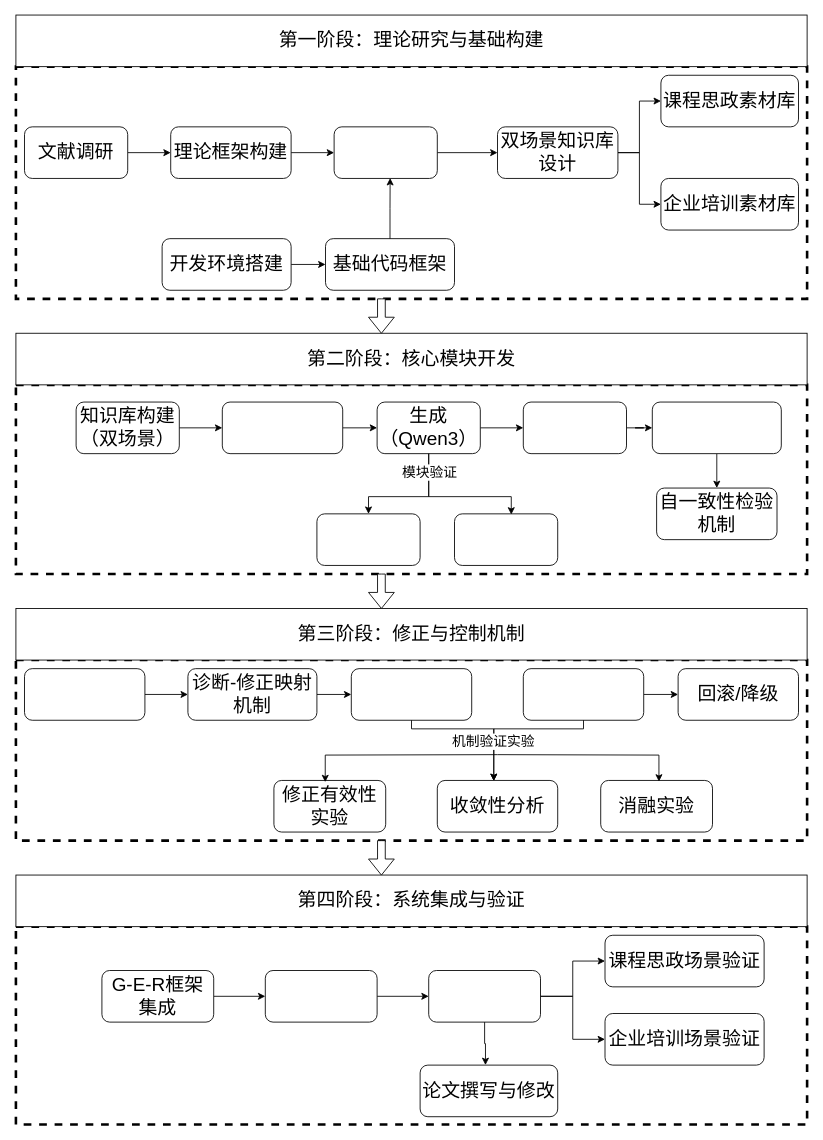
Image size: 823x1140. Some labels were removed from this diagram. Each missing label, with the centre of its shape:
G-E-R框架详细设计: point 385,152
三重质量门禁: point 411,694
五维度评估体系设计: point 574,427
双场景对比实验: point 484,996
四种终止状态判定: point 583,694
四角色Prompt协同策略: point 716,427
基准实验: point 368,539
检索模块实现 （BGE+FAISS）: point 282,427
系统联调: point 320,996
缺陷诊断机制设计: point 84,694
评估有效性验证实验: point 506,539
